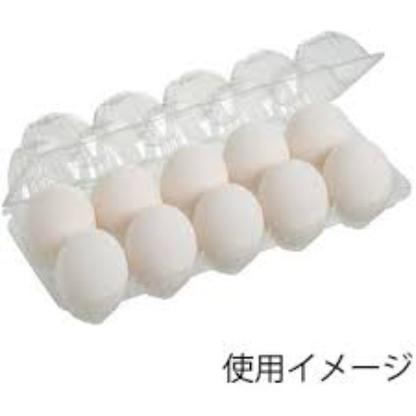egg: (123, 198, 199, 301), (53, 227, 128, 326), (189, 181, 264, 276), (255, 154, 327, 251), (321, 137, 392, 232), (24, 179, 97, 268), (84, 162, 159, 235), (219, 117, 293, 189), (284, 99, 351, 166), (158, 141, 226, 207)
